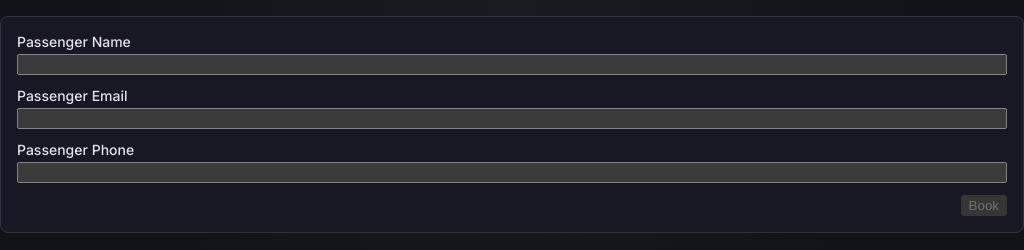
Test case: disables submit while any field is empty
Expected: the button with test id "booking-submit" is disabled, [961, 195, 1007, 216]
Type "Ada Lovelace" into the field with test id "booking-name" at [512, 64], box [17, 54, 1007, 75]
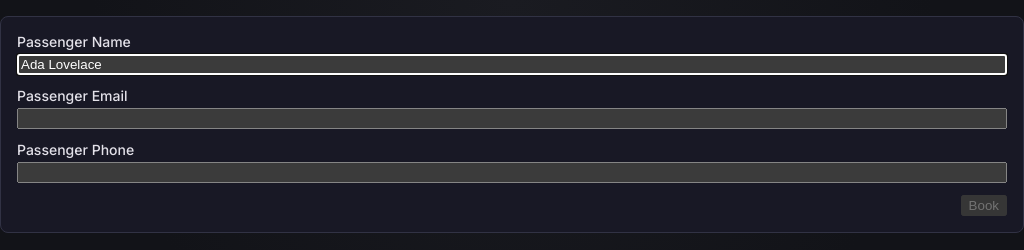
Expected: the button with test id "booking-submit" is disabled, [961, 195, 1007, 216]
Type "ada@example.com" into the field with test id "booking-email" at [512, 118], box [17, 108, 1007, 129]
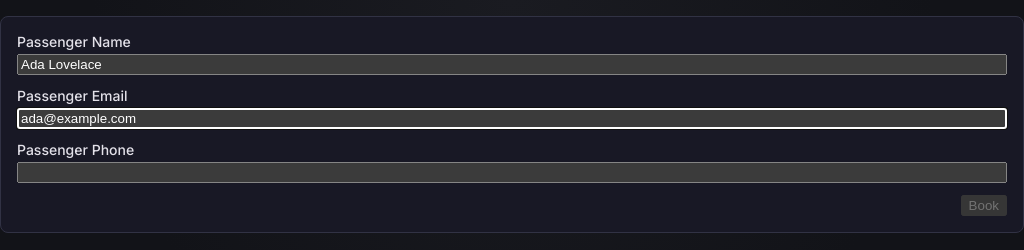
Expected: the button with test id "booking-submit" is disabled, [961, 195, 1007, 216]
Type "+34 600 000 001" into the field with test id "booking-phone" at [512, 172], box [17, 162, 1007, 183]
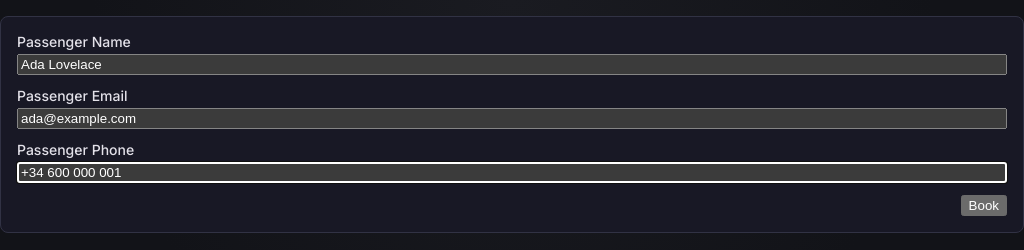
Expected: the button with test id "booking-submit" is enabled, [961, 195, 1007, 216]
